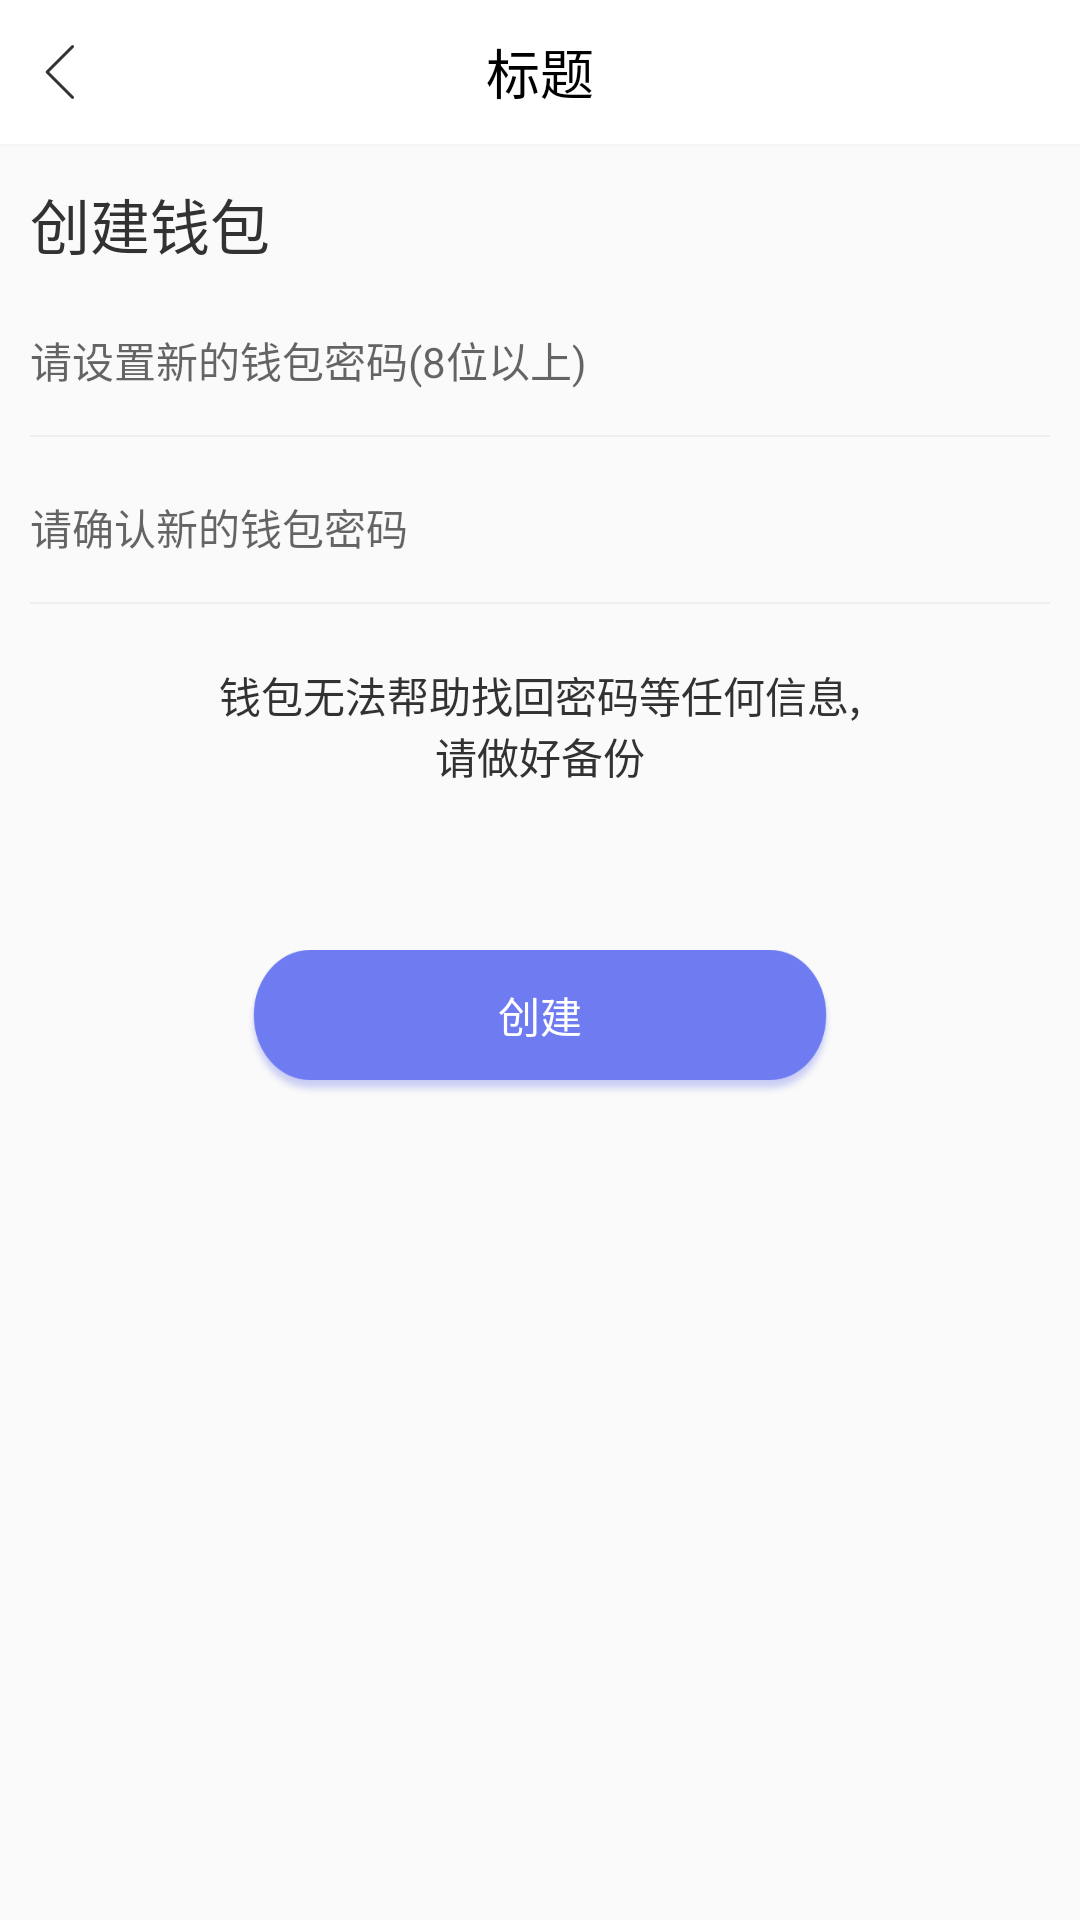

Icons on this 1080 x 1920 Android screen, each with its box as (x1, y1, x2, y2):
back: (45, 45, 74, 99)
